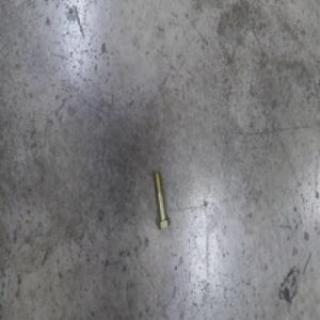Bolttrack_idkeyframe: (152, 170, 171, 230)
